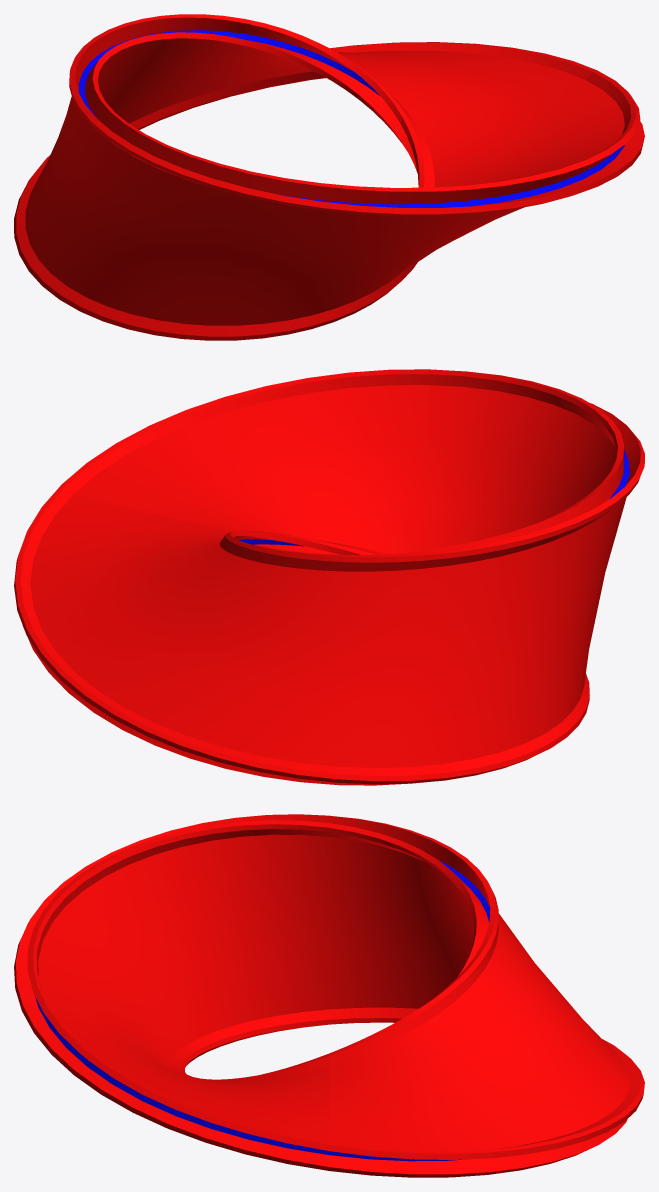
File: MSH_MobiusStrip.fbx
The picture shows the model from 3 angles, top to bottom: view 1: azimuth 30°, elevation 25°; view 2: azimuth 150°, elevation 25°; view 3: azimuth 270°, elevation 25°; orthographic projection. The views are drawn at different scales.
Visible parts, largest first — view 1: MSH_MobiusStrip; view 2: MSH_MobiusStrip; view 3: MSH_MobiusStrip.
Boxes of the visible parts, x1,y1,x2,y2 form: MSH_MobiusStrip: [14, 14, 644, 340]; MSH_MobiusStrip: [14, 369, 644, 785]; MSH_MobiusStrip: [14, 814, 644, 1177].
Bounding box in the file's own units: 24.6 × 9.37 × 26.52.
